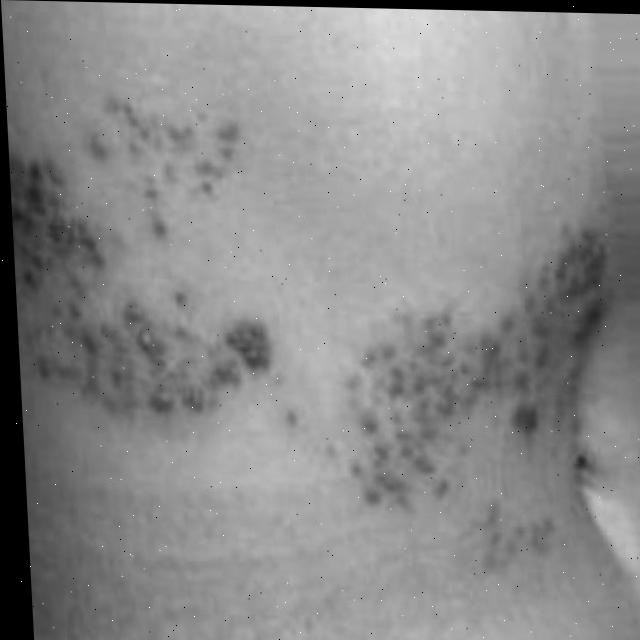Shingles: (317, 218, 627, 556), (5, 93, 290, 423)
